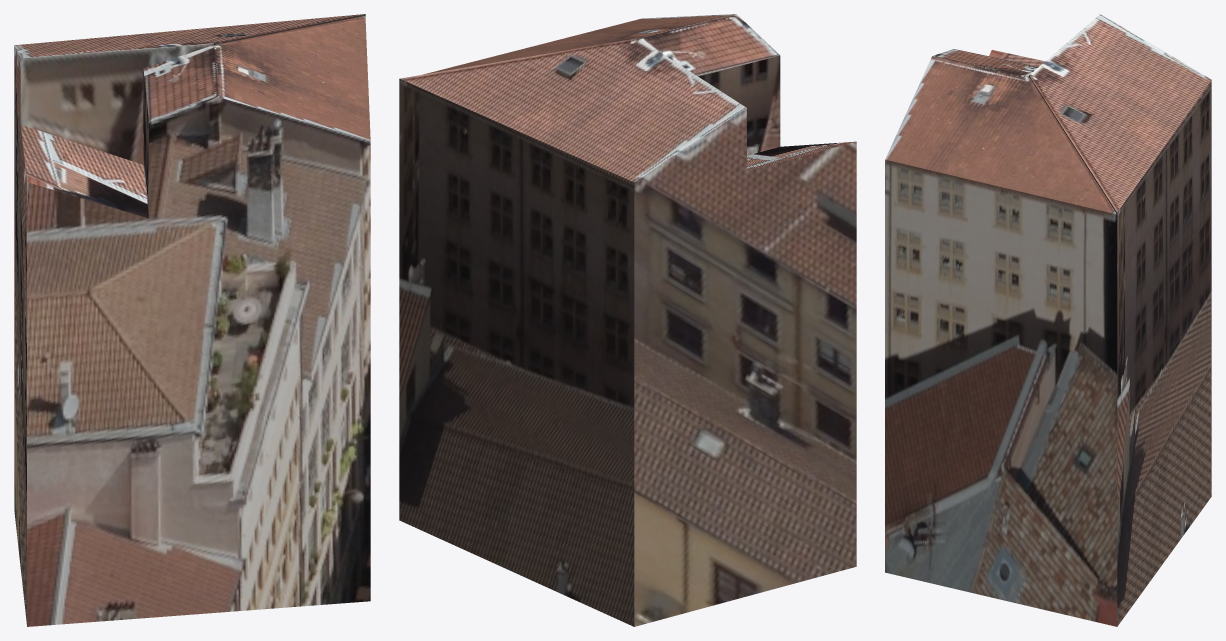
3 renders of one model, left to right at view 1: azimuth 30°, elevation 25°; view 2: azimuth 150°, elevation 25°; view 3: azimuth 270°, elevation 25°, orthographic. The views are drawn at different scales.
Parts seen in each view (by area): view 1: Z_UP; view 2: Z_UP; view 3: Z_UP.
Boxes of the visible parts, box(x1,y1,x2,y2) form: Z_UP: box(14, 14, 370, 626); Z_UP: box(399, 14, 856, 626); Z_UP: box(885, 14, 1211, 626).
Bounding box in the file's own units: 21.29 × 25.79 × 16.46.
Materials: 2 (1 with a texture image).
